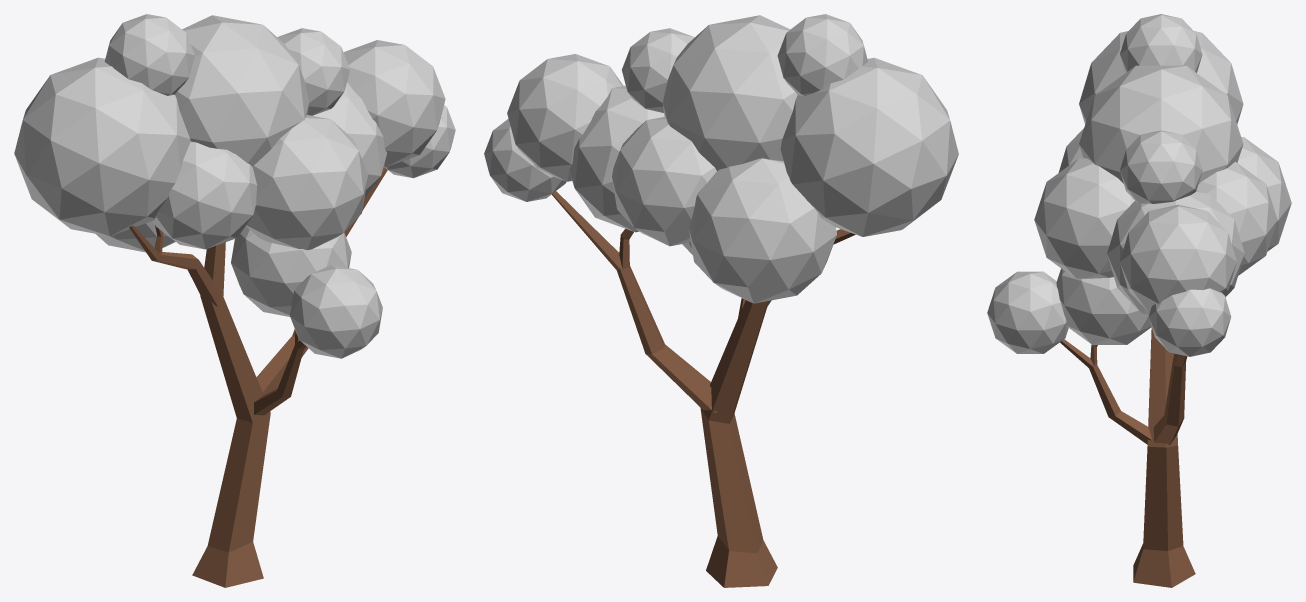
The model's file is tree_h_2_snow.fbx.
3 views of the same model, side by side, from view 1: azimuth 30°, elevation 25°; view 2: azimuth 150°, elevation 25°; view 3: azimuth 270°, elevation 25° (orthographic). The views are drawn at different scales.
Visible parts, largest first — view 1: tree_height.001; view 2: tree_height.001; view 3: tree_height.001.
Part boxes in pixels (left/top/right/bottom): tree_height.001: left=14, top=14, right=455, bottom=587; tree_height.001: left=484, top=14, right=958, bottom=587; tree_height.001: left=987, top=14, right=1291, bottom=587.
Size of the model in its own units: 552 by 689 by 365.
